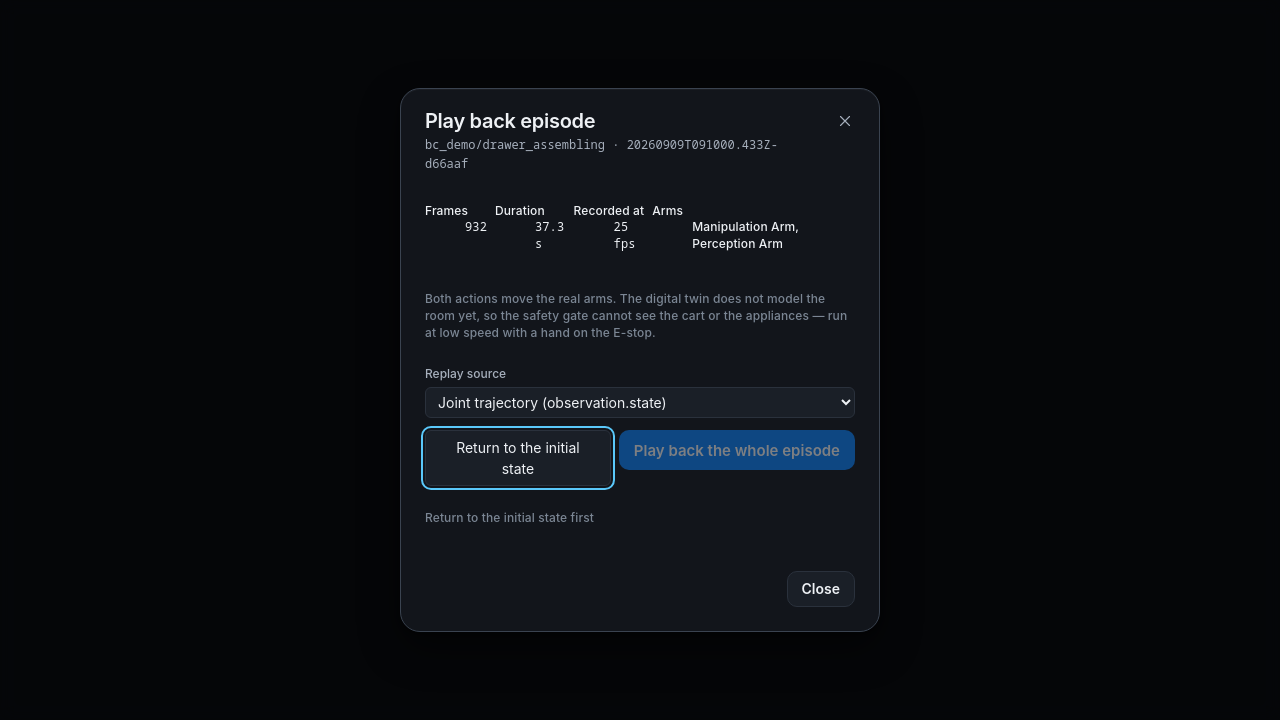
Test: PlaybackDialog › while replaying, Play becomes Stop — the operator's only cancel on this page
The width and height of the screenshot is (1280, 720).
Expected: the element with test id "playback-meta" is shown, [425,200,855,255]
Click the button with test id "playback-goto-initial": (518, 458) [425,430,611,486]
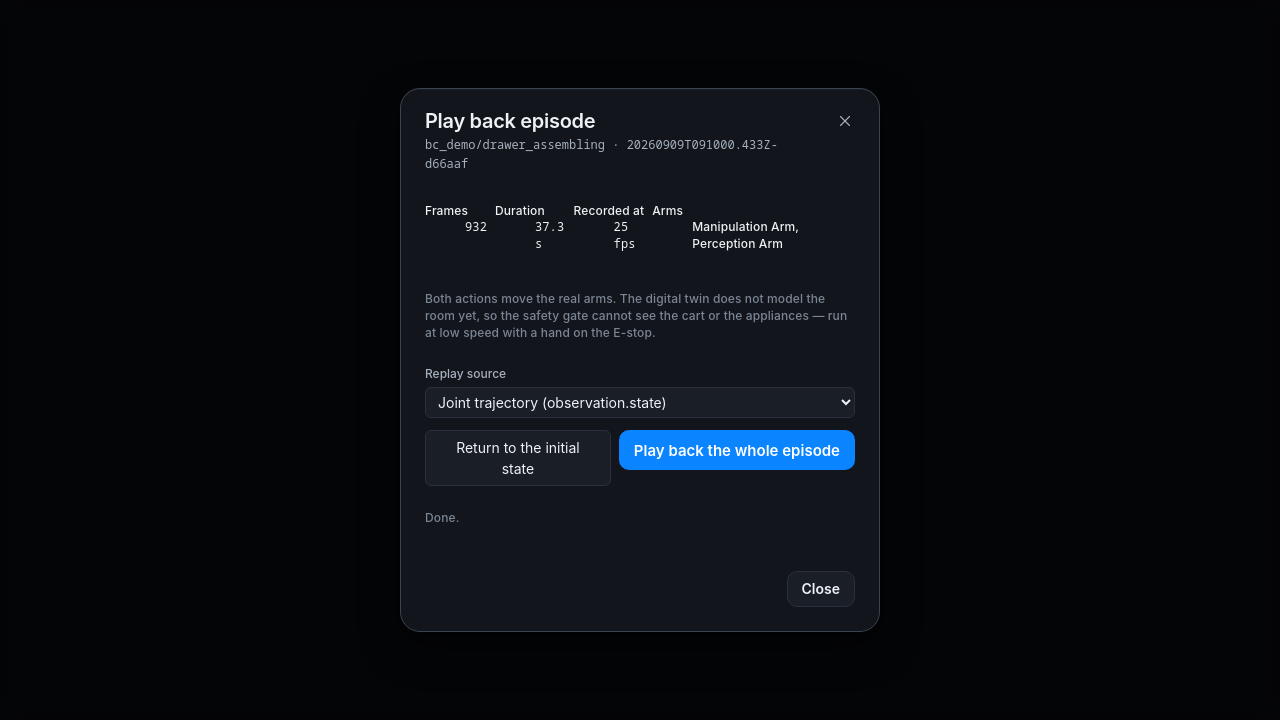
Expected: the button with test id "playback-play" is enabled
Click the button with test id "playback-play": (737, 450) [619,430,855,470]
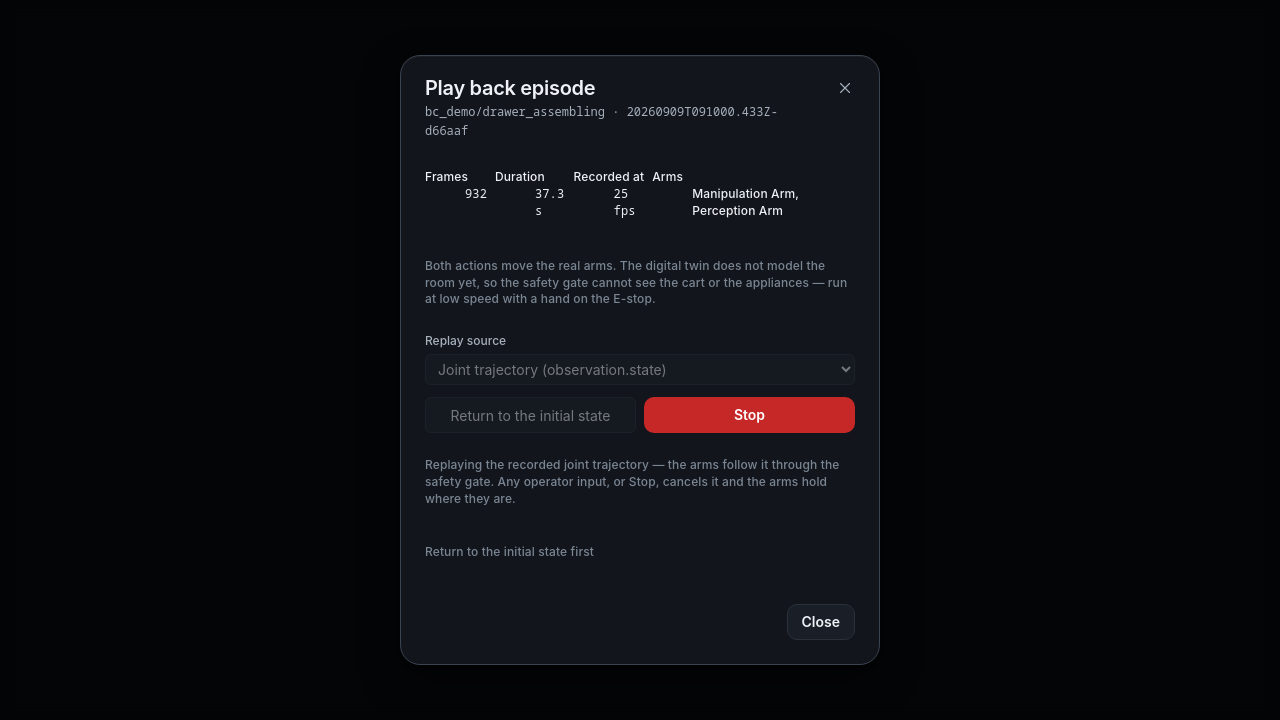
Expected: the message with test id "playback-playing" is shown, [425,457,855,508]
Click the button with test id "playback-stop": (750, 415) [644,397,855,433]
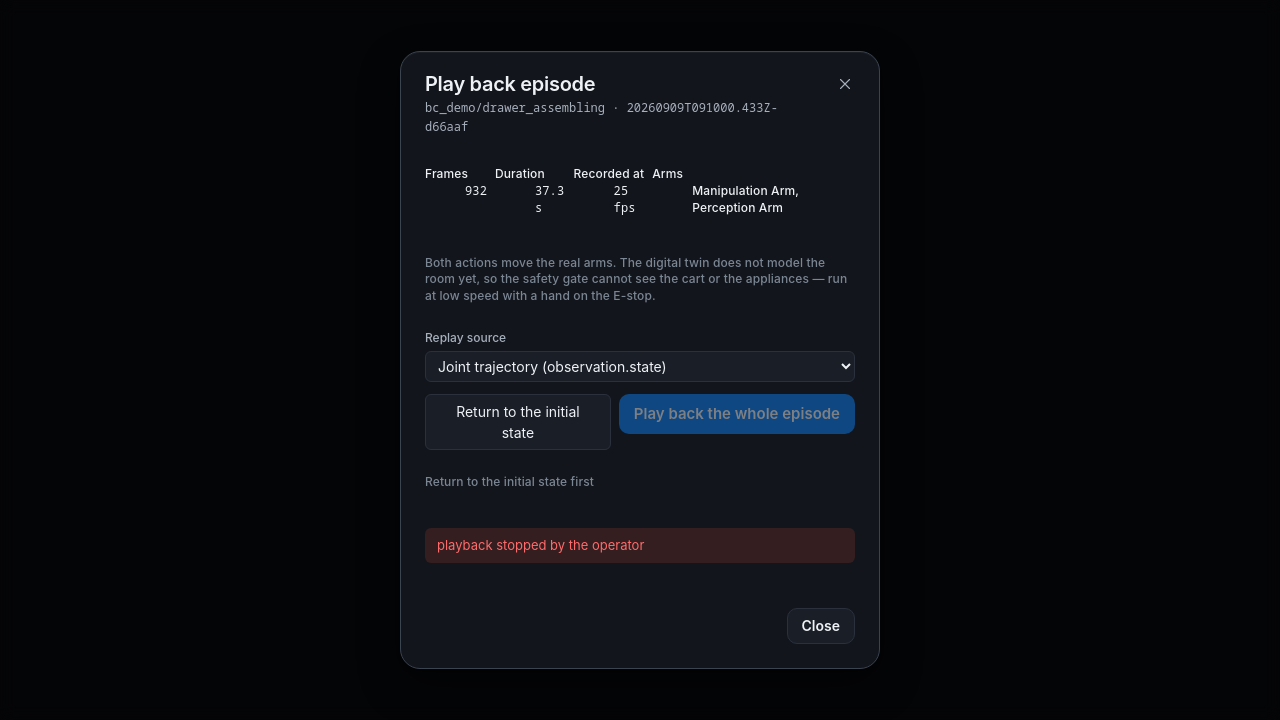
Expected: the message with test id "playback-outcome" shows "stopped by the operator", [437,537,644,553]
